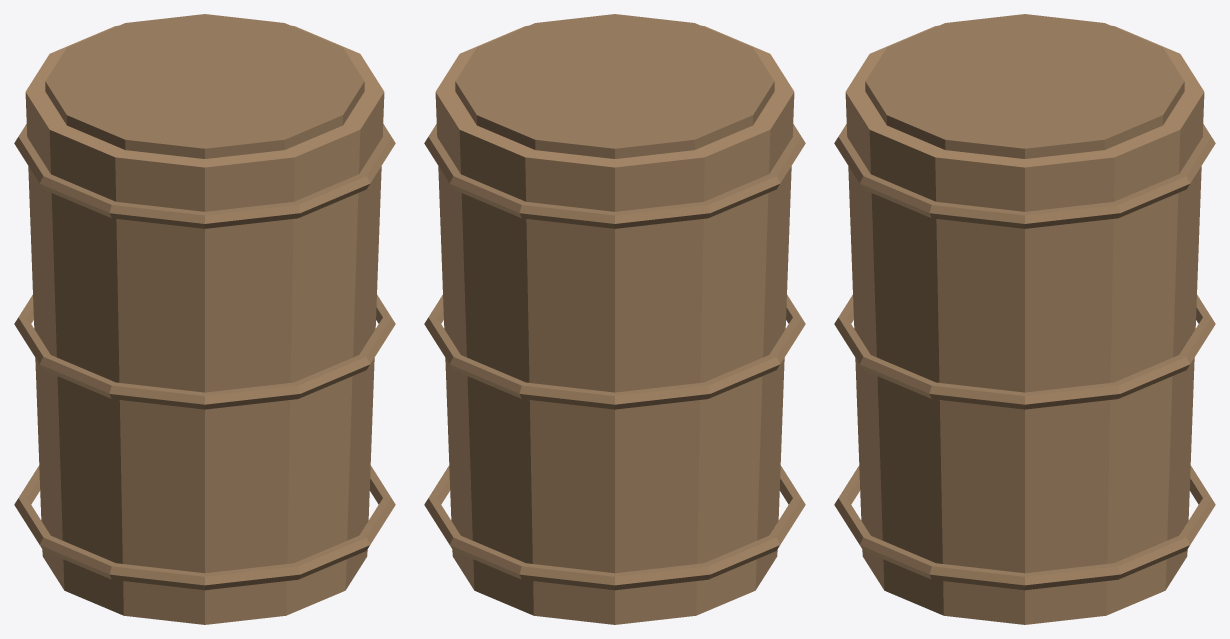
The model's file is barrel_rusty_00.glb.
3 renders of one model, left to right at view 1: azimuth 30°, elevation 25°; view 2: azimuth 150°, elevation 25°; view 3: azimuth 270°, elevation 25°, orthographic.
Parts seen in each view (by area): view 1: barrel_rusty_00; view 2: barrel_rusty_00; view 3: barrel_rusty_00.
Boxes of the visible parts, box(x1,y1,x2,y2) form: barrel_rusty_00: box(14, 14, 395, 624); barrel_rusty_00: box(424, 14, 805, 624); barrel_rusty_00: box(834, 14, 1215, 624).
Size of the model in its own units: 0.67 by 0.92 by 0.67.
